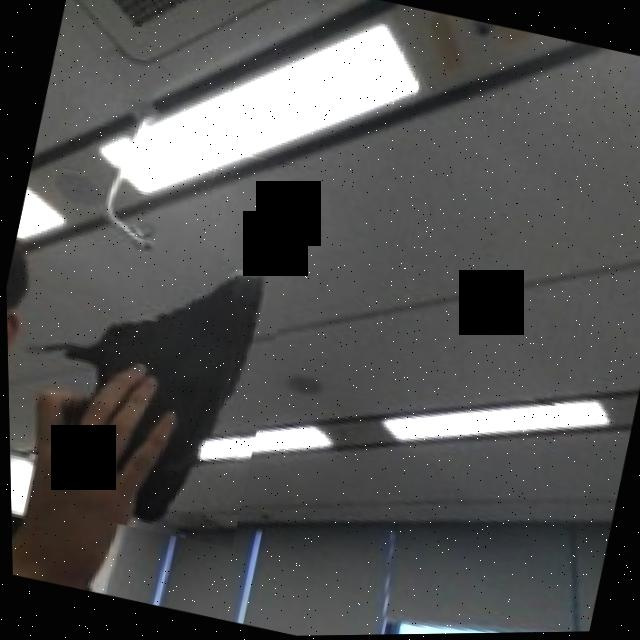shoe: (39, 201, 300, 551)
